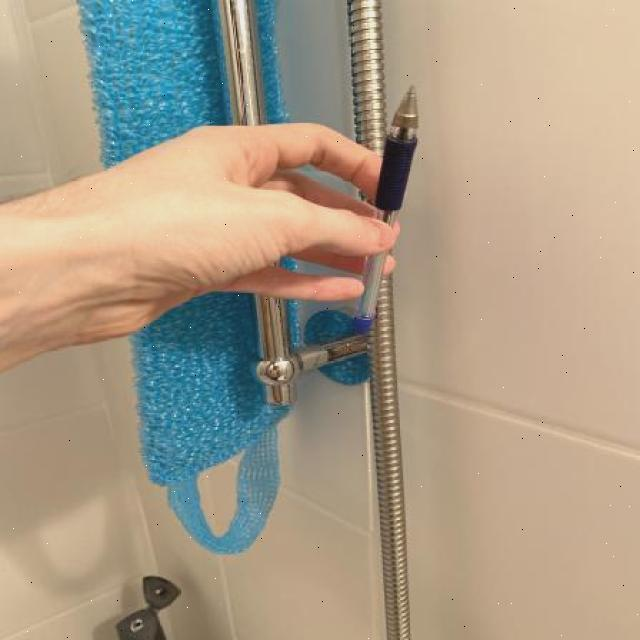pen: (354, 82, 422, 338)
